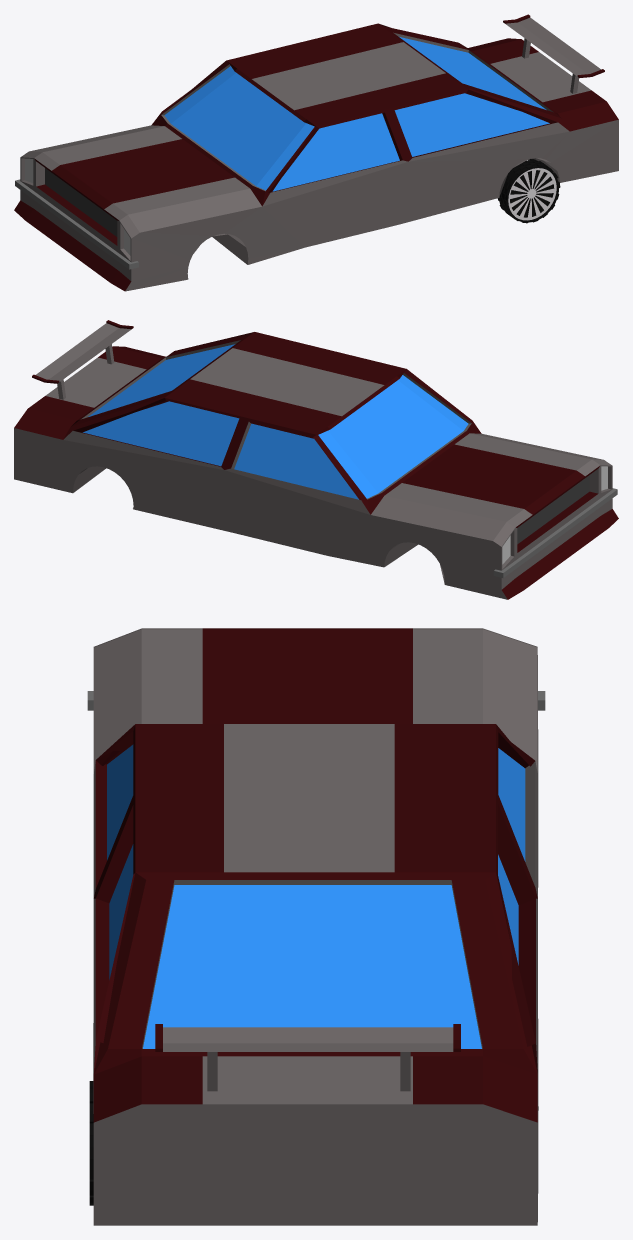
The model's file is backL.obj.
The picture shows the model from 3 angles, top to bottom: view 1: azimuth 30°, elevation 25°; view 2: azimuth 150°, elevation 25°; view 3: azimuth 270°, elevation 25°; orthographic projection. The views are drawn at different scales.
Parts seen in each view (by area): view 1: Cube, Cylinder.000, Plane.001, Cube.001; view 2: Cube, Plane.001, Cube.001; view 3: Cube, Plane.001.
Part boxes in pixels (x1,y1,x2,y2): Cube: (14,23,618,291); Cylinder.000: (497,159,560,223); Plane.001: (503,14,604,78); Cube.001: (15,179,138,269); Cube: (14,332,618,599); Plane.001: (32,320,133,383); Cube.001: (493,488,617,577); Cube: (93,628,538,1225); Plane.001: (155,1024,460,1051).
Size of the model in its own units: 6.5 by 1.72 by 2.59.
